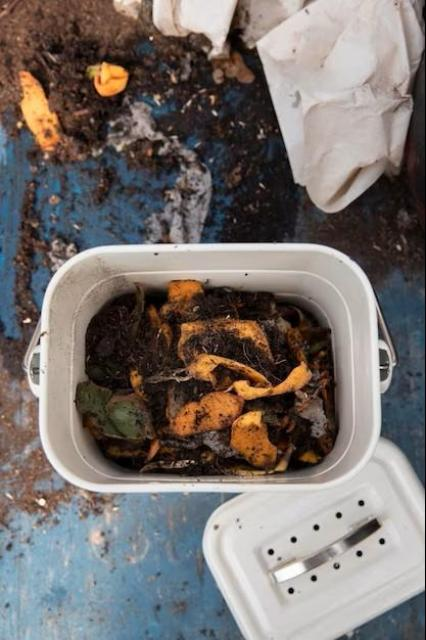Garbage: (76, 280, 337, 474), (0, 0, 21, 18)
